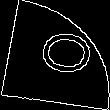O_W: (21, 29, 89, 81)
